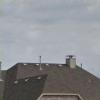Chimney: (62, 52, 82, 76)
